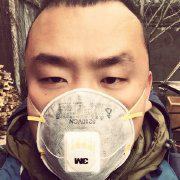OK: (27, 44, 148, 180)
